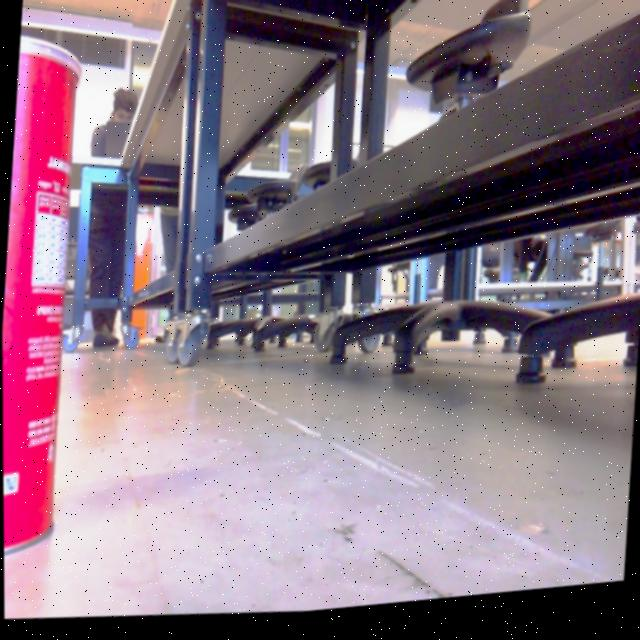redpringles: (0, 11, 103, 583)
